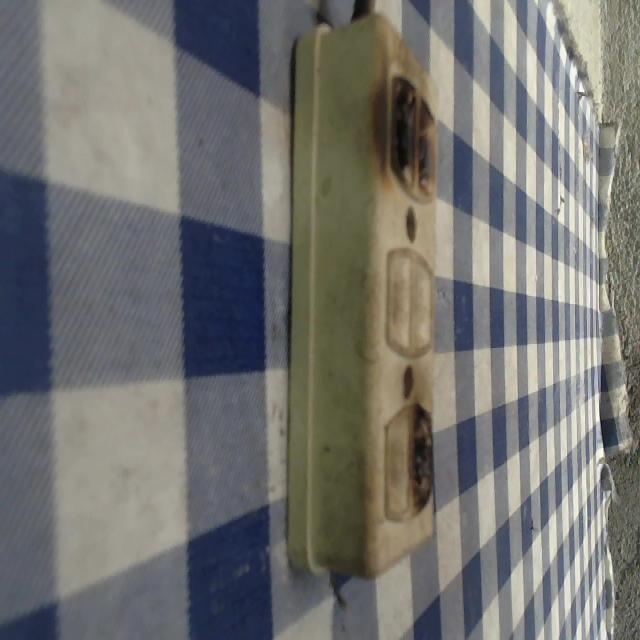-: (366, 56, 441, 211), (403, 397, 440, 519)
